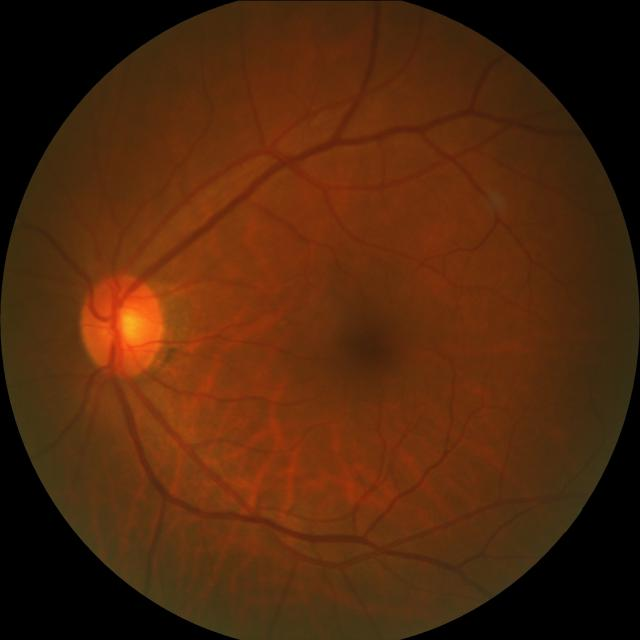OC: (106, 302, 144, 347)
OD: (78, 271, 165, 375)
